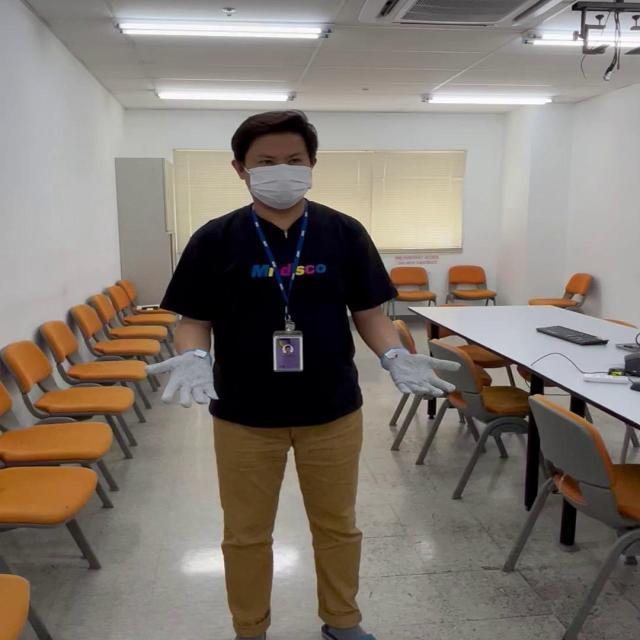gloved_hand: (377, 344, 455, 399), (147, 354, 219, 408)
